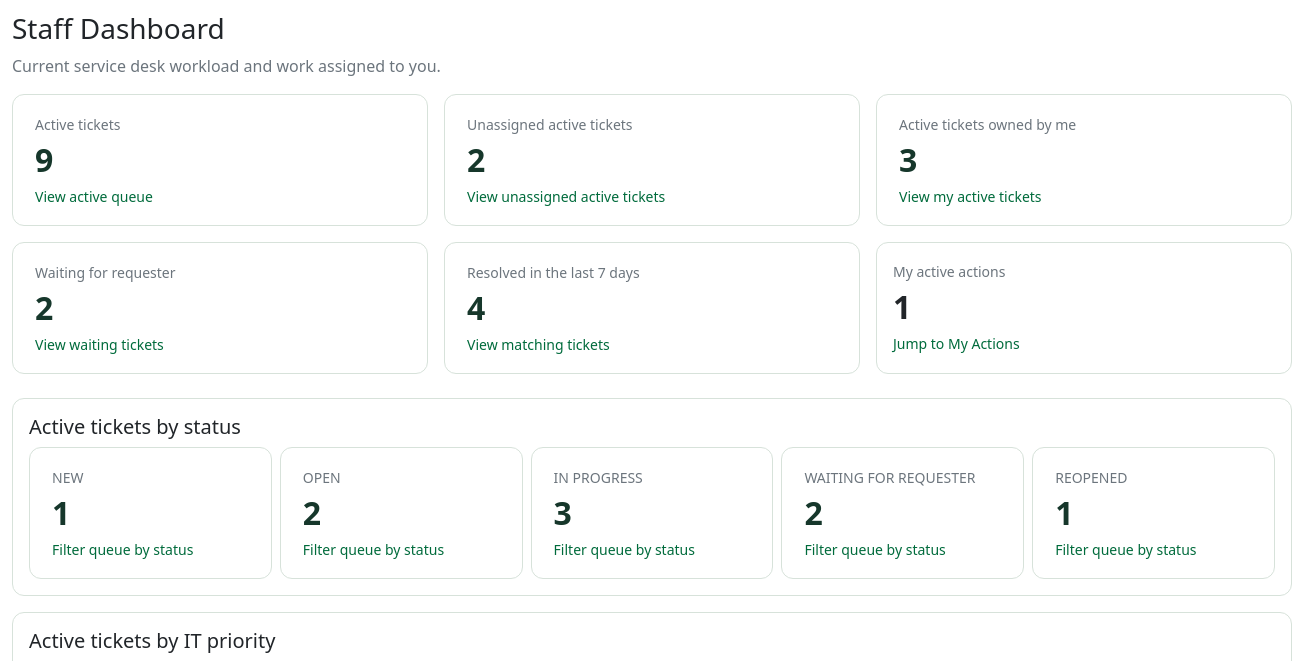
Scenario: Issue #70 Staff Dashboard › opens resolved-ticket pages with the exact dashboard window
Click the button with aria-label "Resolved in the last 7 days: 4": (553, 272) [444,242,860,374]
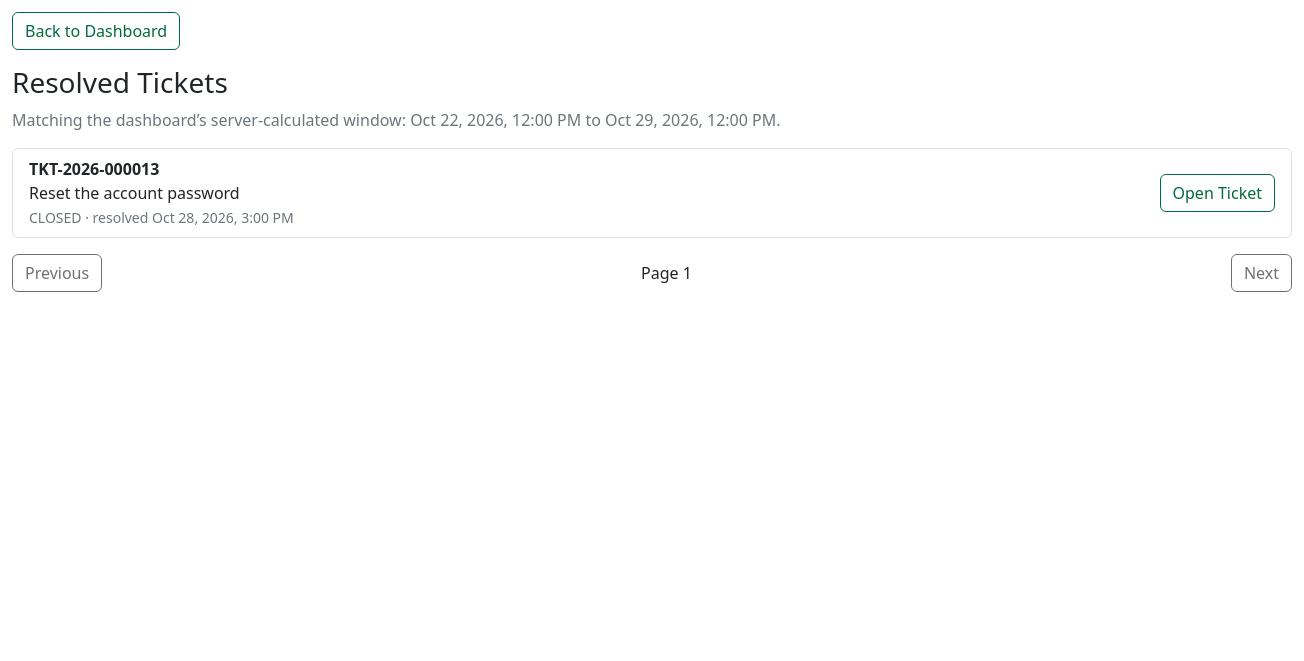
Expected: the text "Reset the account password" is shown, [29,182,240,204]
